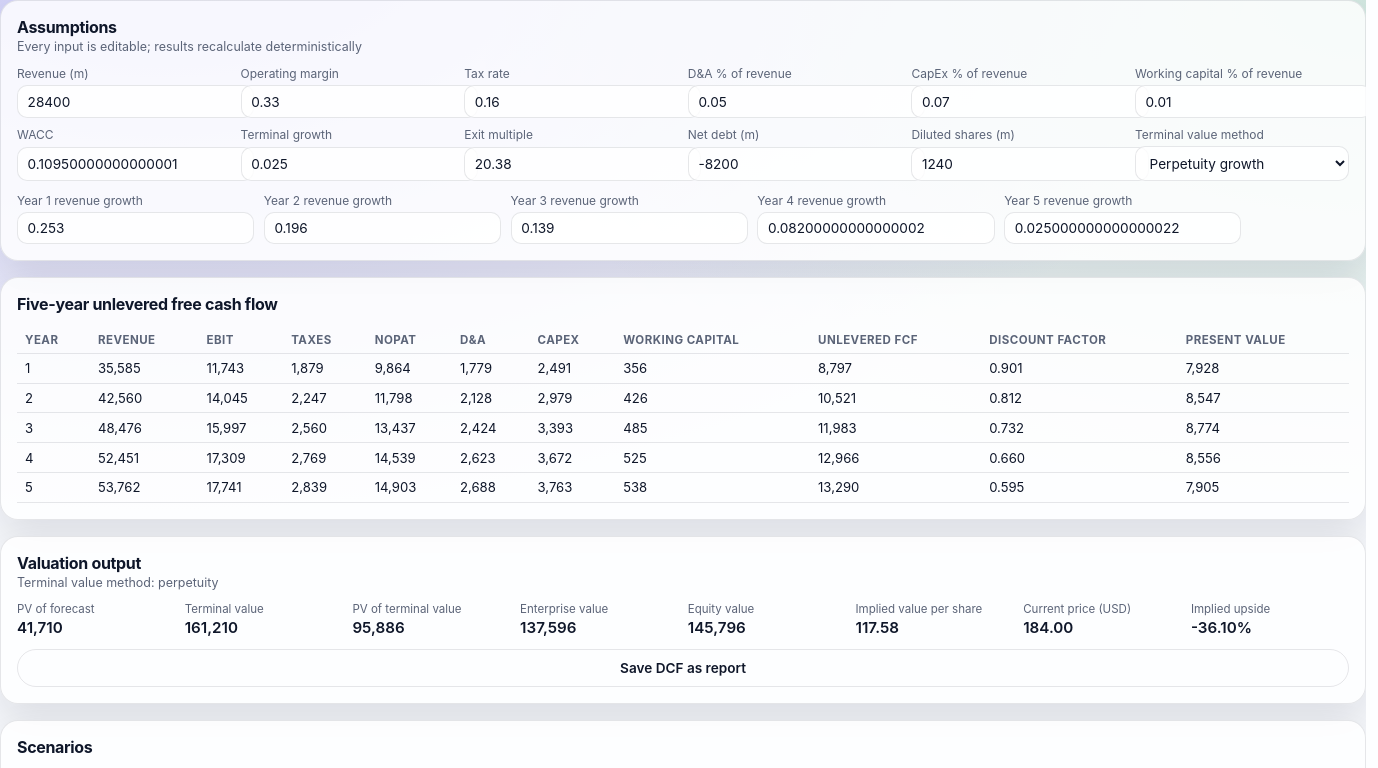
Test: CompanyValuation › switches the terminal-value method
The width and height of the screenshot is (1378, 768).
Select "Exit multiple" in the dropdown labelled "Terminal value method": point(1242, 164) [1135,146,1349,181]
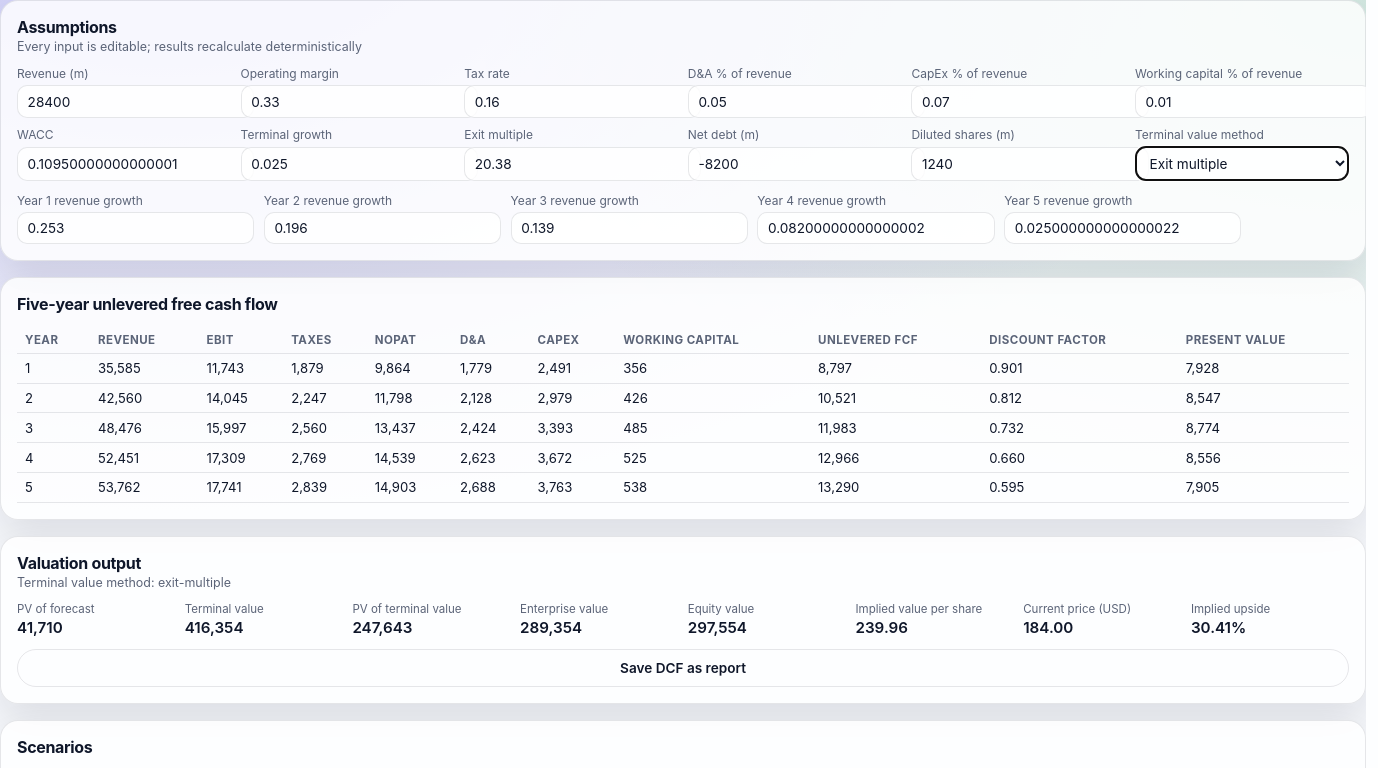
Result: the text "Terminal value method: exit-multiple" is shown at [17,575,231,590]
